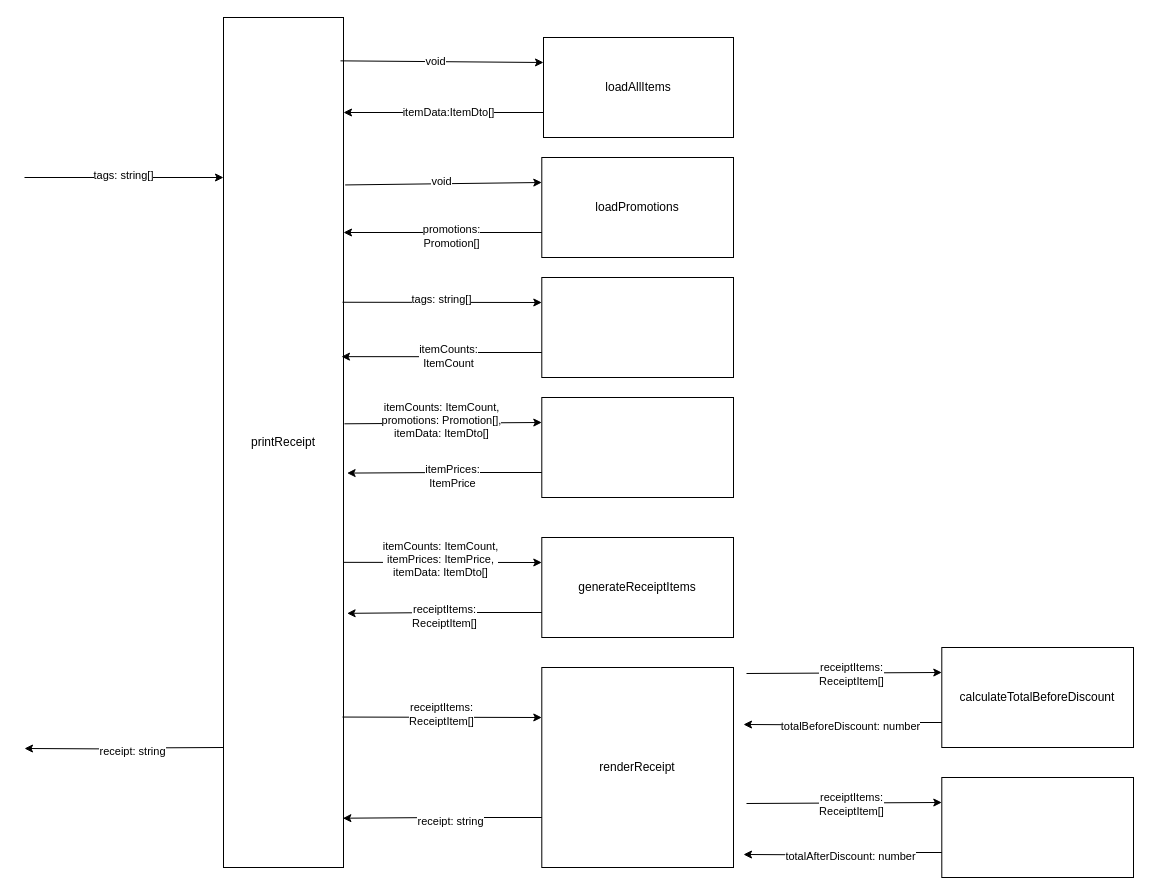
The diagram is 1151 pixels wide and 895 high, and some of its shapes have lost their labels. Here are the shapes that lost their labels. From the top down, the centre of each, then its label:
pixel 637 327: countReceiptItemsFromTags
pixel 637 447: calculateSubtotal
pixel 1037 827: calculateTotalAfterDiscount
